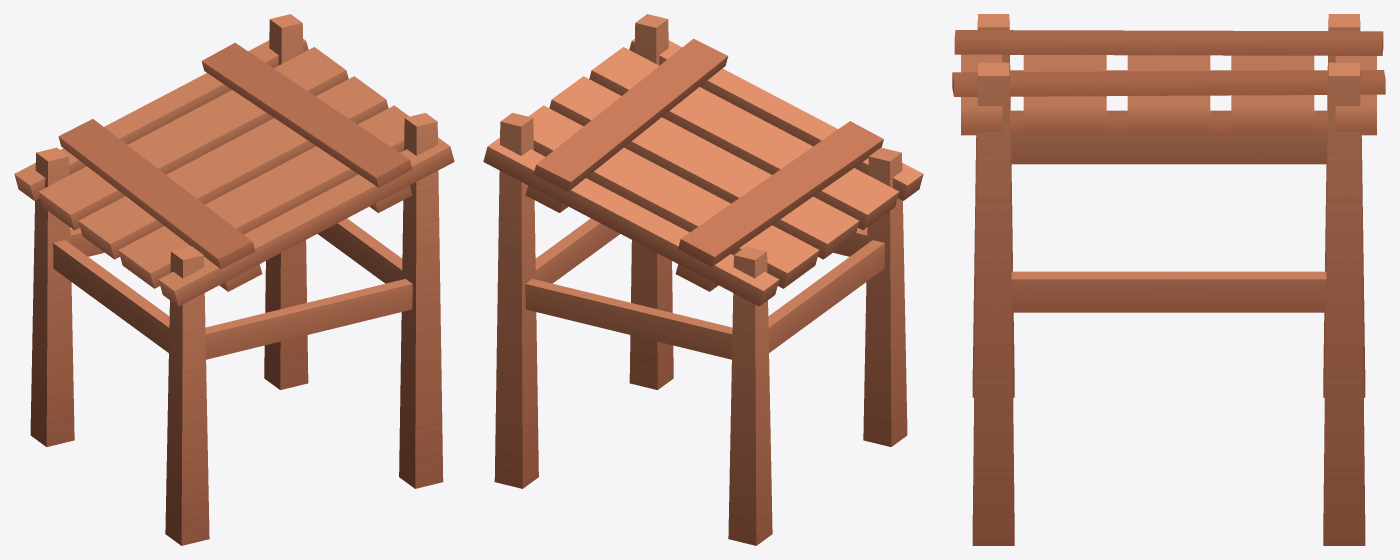
Rendered from structure-roof.glb.
3 views of the same model, side by side, from view 1: azimuth 30°, elevation 25°; view 2: azimuth 150°, elevation 25°; view 3: azimuth 270°, elevation 25° (orthographic). The views are drawn at different scales.
Parts seen in each view (by area): view 1: Group, structure-roof; view 2: Group, structure-roof; view 3: structure-roof, Group.
Part boxes in pixels (x1,y1,x2,y2): Group: [14, 39, 454, 306]; structure-roof: [30, 14, 443, 545]; Group: [483, 38, 923, 306]; structure-roof: [494, 14, 907, 545]; structure-roof: [972, 14, 1365, 545]; Group: [952, 30, 1385, 135].
Bounding box in the file's own units: 0.5355 × 0.6572 × 0.5519.
1 material, 1 textured.
